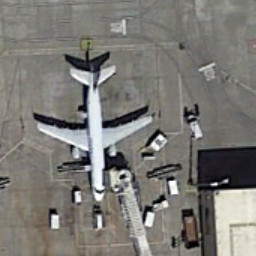Airplane: (26, 56, 160, 212)
